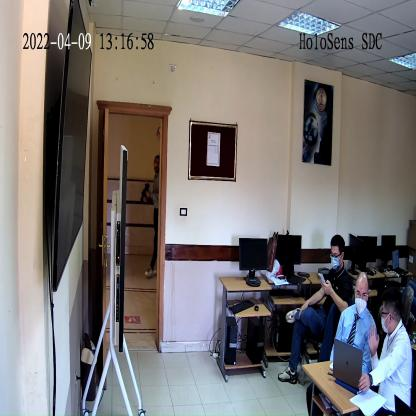handgun: (139, 179, 151, 204)
